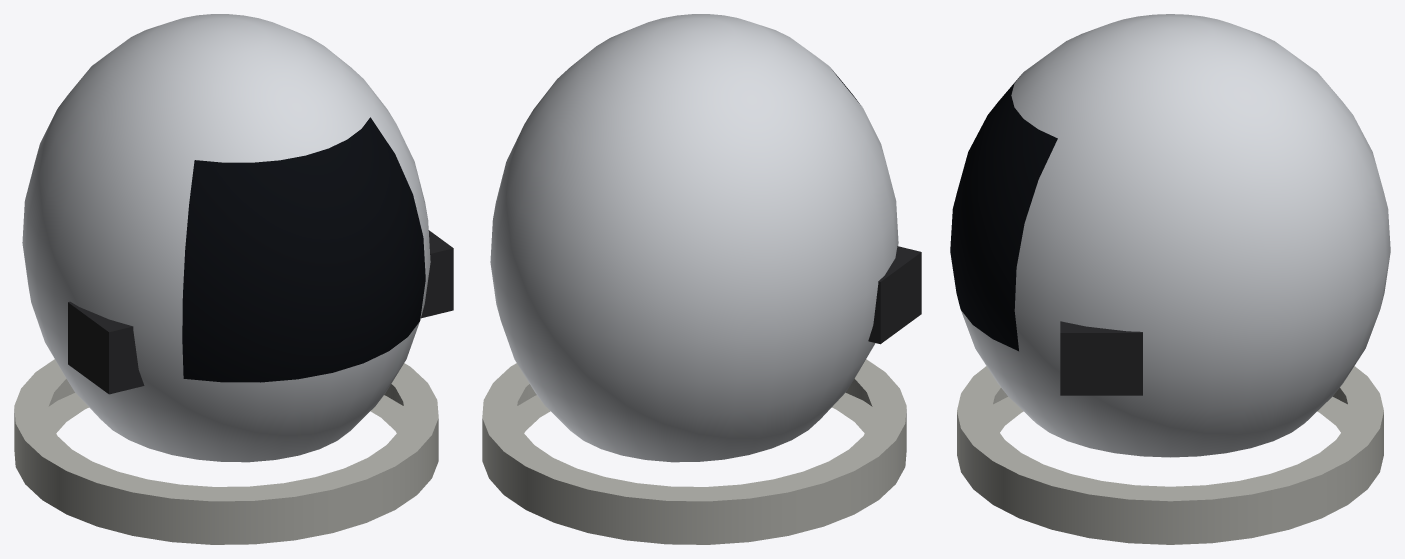
The model's file is helmet_mercury.glb.
The picture shows the model from 3 angles, left to right: view 1: azimuth 30°, elevation 25°; view 2: azimuth 150°, elevation 25°; view 3: azimuth 270°, elevation 25°; orthographic projection.
Parts seen in each view (by area): view 1: model; view 2: model; view 3: model.
Part boxes in pixels (x1=…): model: x1=14, y1=14, x2=453, y2=544; model: x1=482, y1=14, x2=921, y2=544; model: x1=950, y1=14, x2=1390, y2=544.
Bounding box in the file's own units: 0.31 × 0.34 × 0.3197.
1 material, 1 textured.
